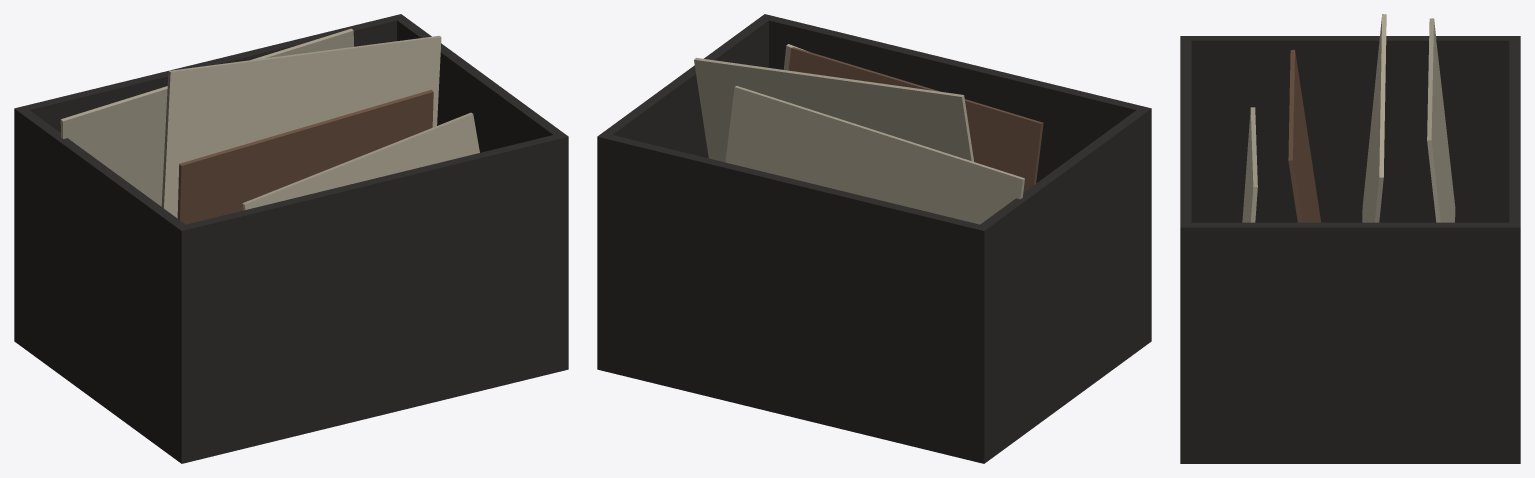
File: crate-salvaged-boards.glb
The picture shows the model from 3 angles, left to right: view 1: azimuth 30°, elevation 25°; view 2: azimuth 150°, elevation 25°; view 3: azimuth 270°, elevation 25°; orthographic projection.
Parts seen in each view (by area): view 1: plastic-dark, plastic-light, wood; view 2: plastic-dark, plastic-light, wood; view 3: plastic-dark, plastic-light, wood.
Part boxes in pixels (x1,y1,x2,y2): plastic-dark: (14,14,568,463); plastic-light: (60,28,479,218); wood: (177,89,433,224); plastic-dark: (597,14,1151,463); plastic-light: (694,44,1024,224); wood: (788,47,1043,192); plastic-dark: (1180,36,1520,463); plastic-light: (1242,14,1455,222); wood: (1288,49,1321,222).
Size of the model in its own units: 0.4 by 0.2938 by 0.3.
